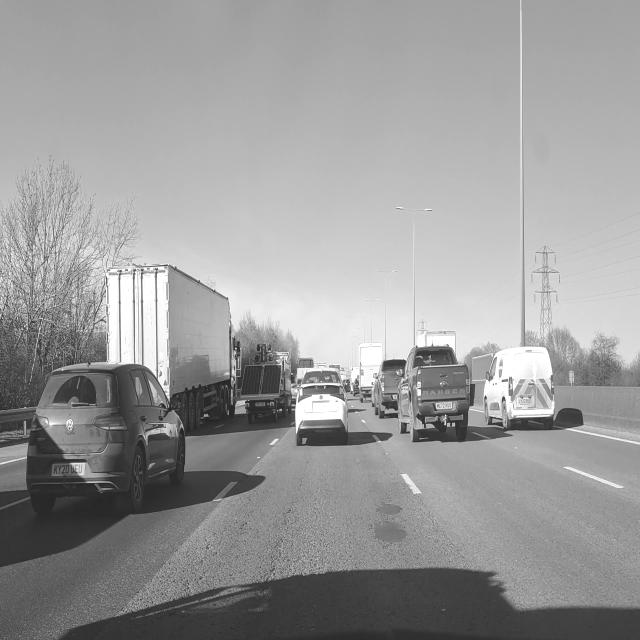car: (26, 363, 185, 514), (396, 340, 474, 442), (483, 347, 554, 430), (295, 370, 348, 445), (372, 354, 408, 417)
